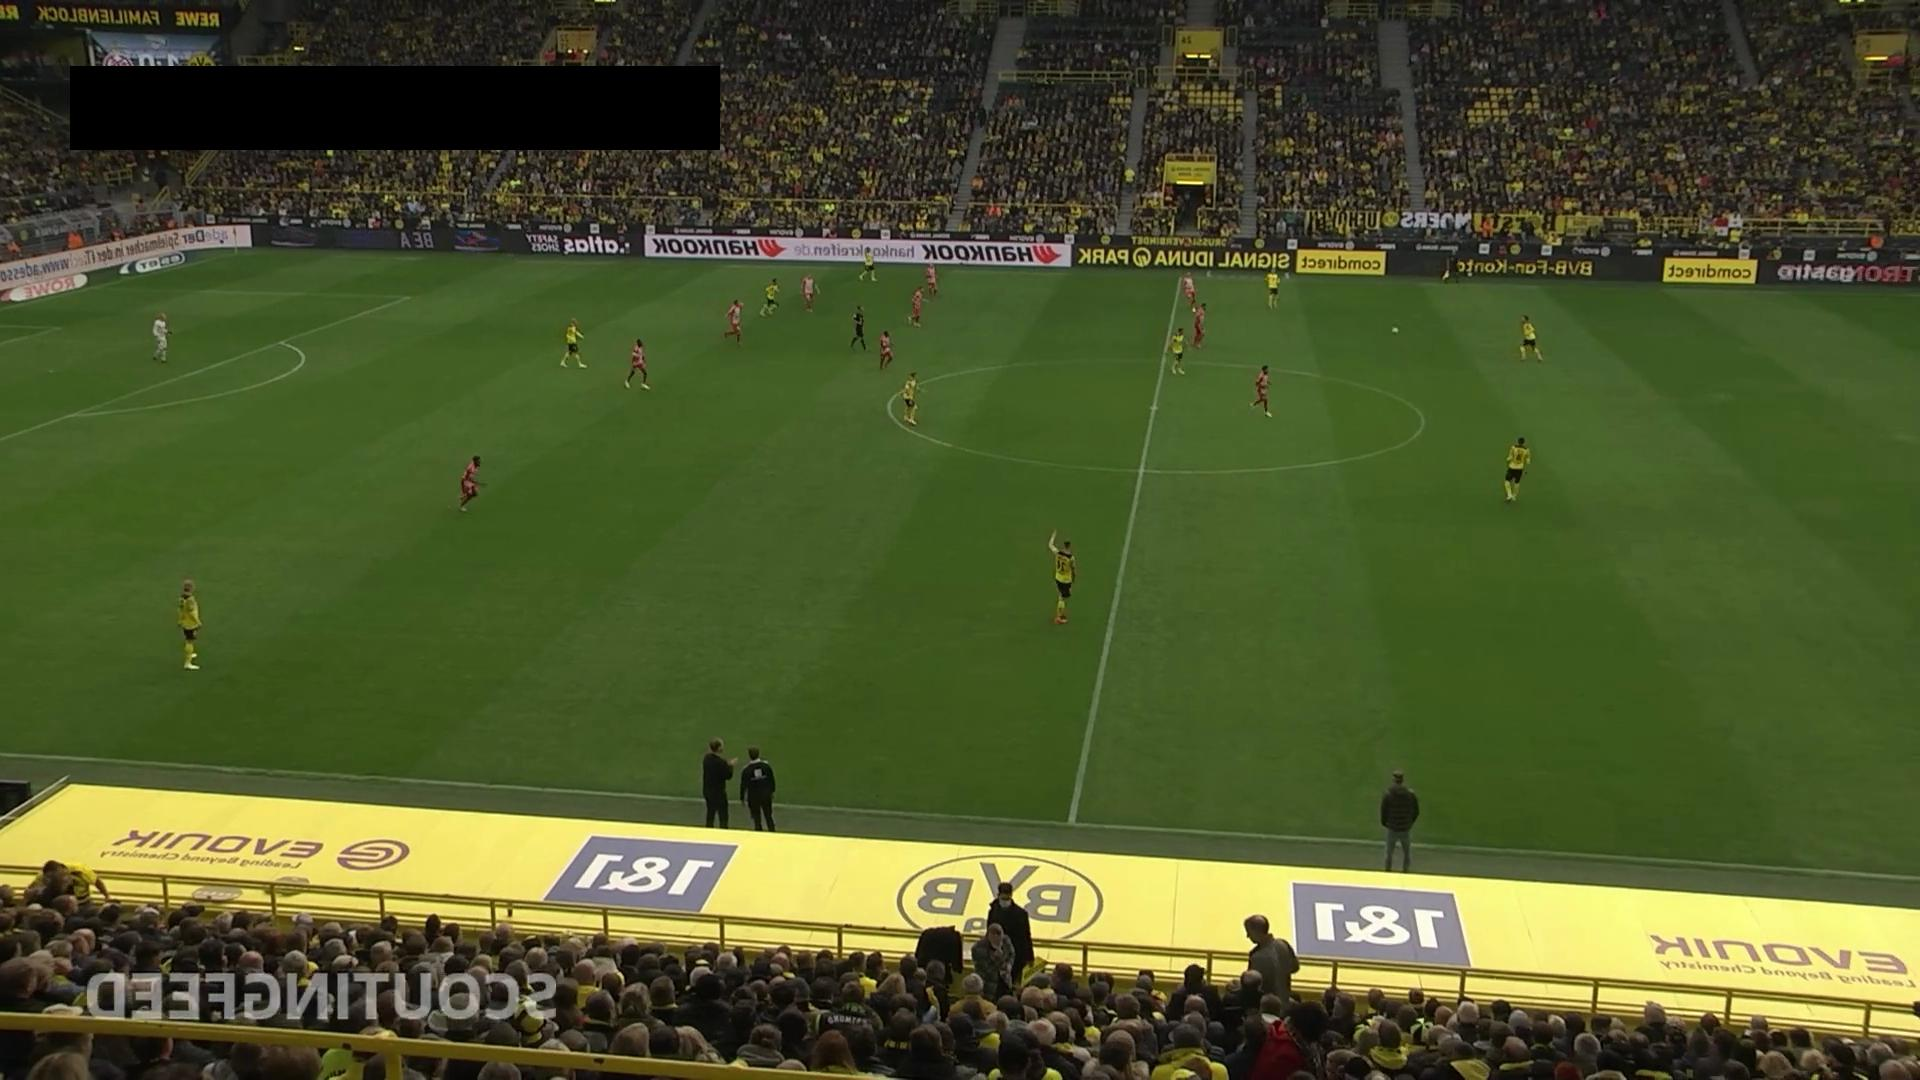ball: (1391, 326, 1400, 336)
goalkeeper: (152, 311, 173, 362)
player: (1047, 526, 1077, 625), (176, 578, 202, 671), (455, 456, 487, 516), (1503, 436, 1531, 502), (623, 338, 652, 391), (560, 317, 588, 368), (1248, 364, 1273, 418), (1518, 314, 1543, 362), (901, 371, 921, 425), (725, 298, 744, 347), (799, 272, 821, 314), (1169, 327, 1186, 376), (1192, 302, 1209, 349), (761, 277, 781, 316), (1180, 271, 1198, 314), (858, 246, 878, 283), (1264, 268, 1281, 310), (878, 329, 894, 370), (909, 286, 924, 327), (924, 260, 939, 299)
referee: (849, 304, 867, 352), (1441, 248, 1462, 286)
